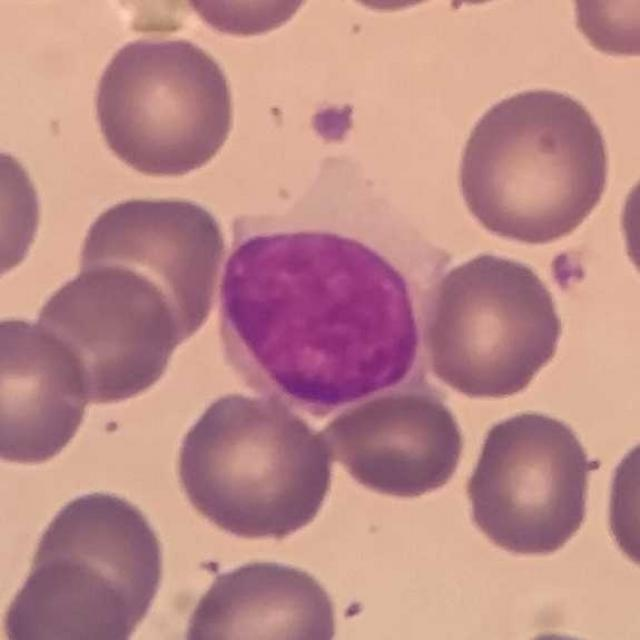Lymphocyte: (213, 149, 452, 411)
Platelets: (307, 98, 358, 147), (547, 246, 591, 293)
RBC: (452, 80, 617, 249), (168, 386, 340, 543), (72, 188, 230, 351), (417, 247, 568, 403), (87, 30, 240, 181), (22, 483, 170, 638), (28, 260, 182, 408), (460, 405, 600, 561), (316, 386, 470, 502), (0, 310, 96, 468), (178, 553, 344, 640), (0, 553, 137, 640), (0, 137, 48, 289), (599, 425, 640, 581), (174, 0, 320, 40), (562, 0, 640, 62), (613, 152, 640, 304), (316, 0, 469, 16)
